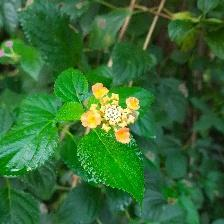common lanthana: (83, 81, 146, 148)
